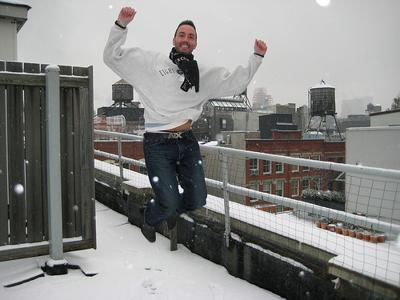person: (103, 6, 271, 240)
